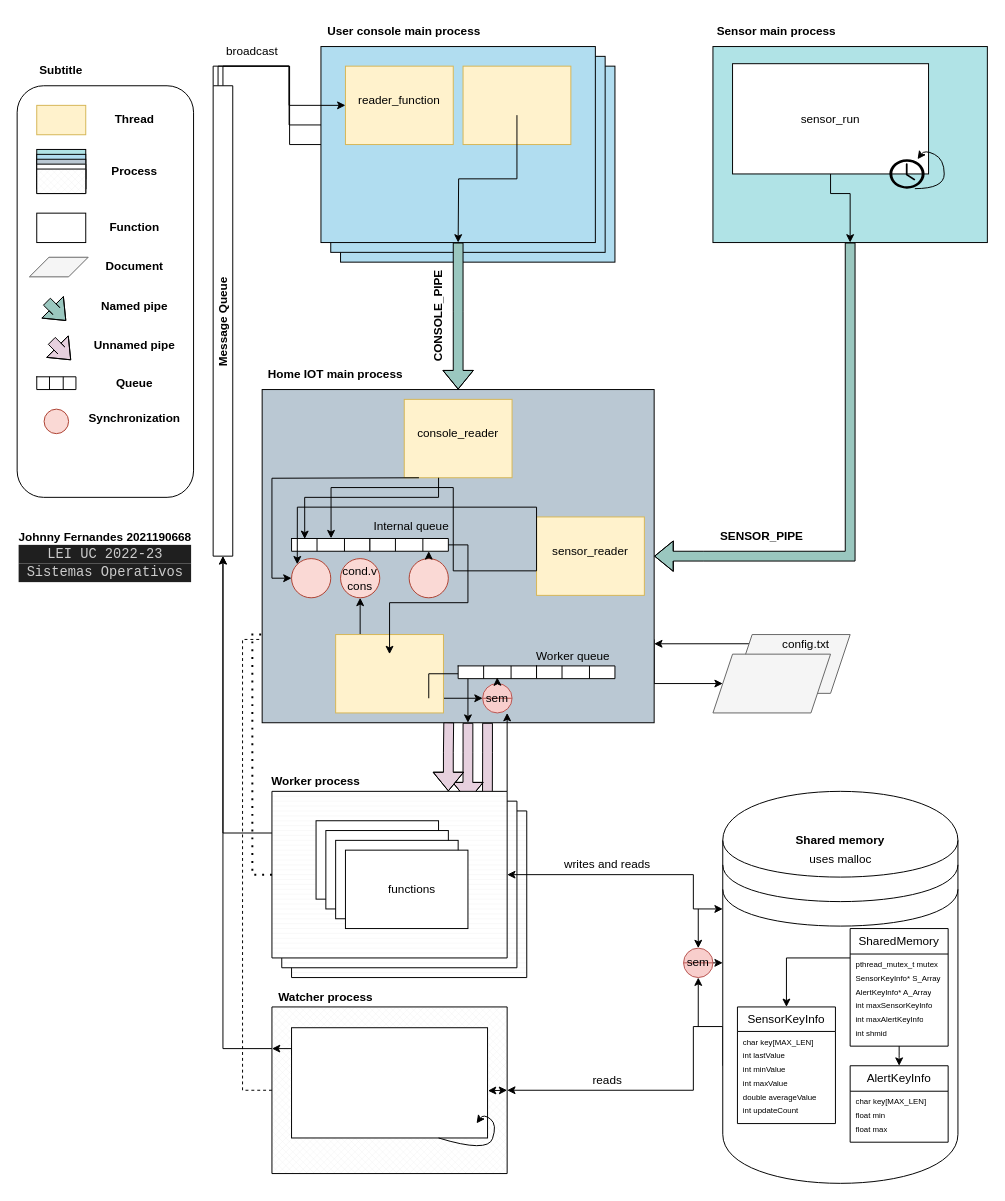
This 1005x1201 diagram has some shape labels left out. The shapes that lost their labels are listed below. From the top down, each one's centre as x and y in pixels, then its label:
At (x=516, y=105): "writer_function".
At (x=311, y=578): "cond.v prod".
At (x=428, y=578): "mutex".
At (x=389, y=673): "dispatcher".
At (x=771, y=683): "home_iot.log".
At (x=389, y=1082): "watcher_reader".
